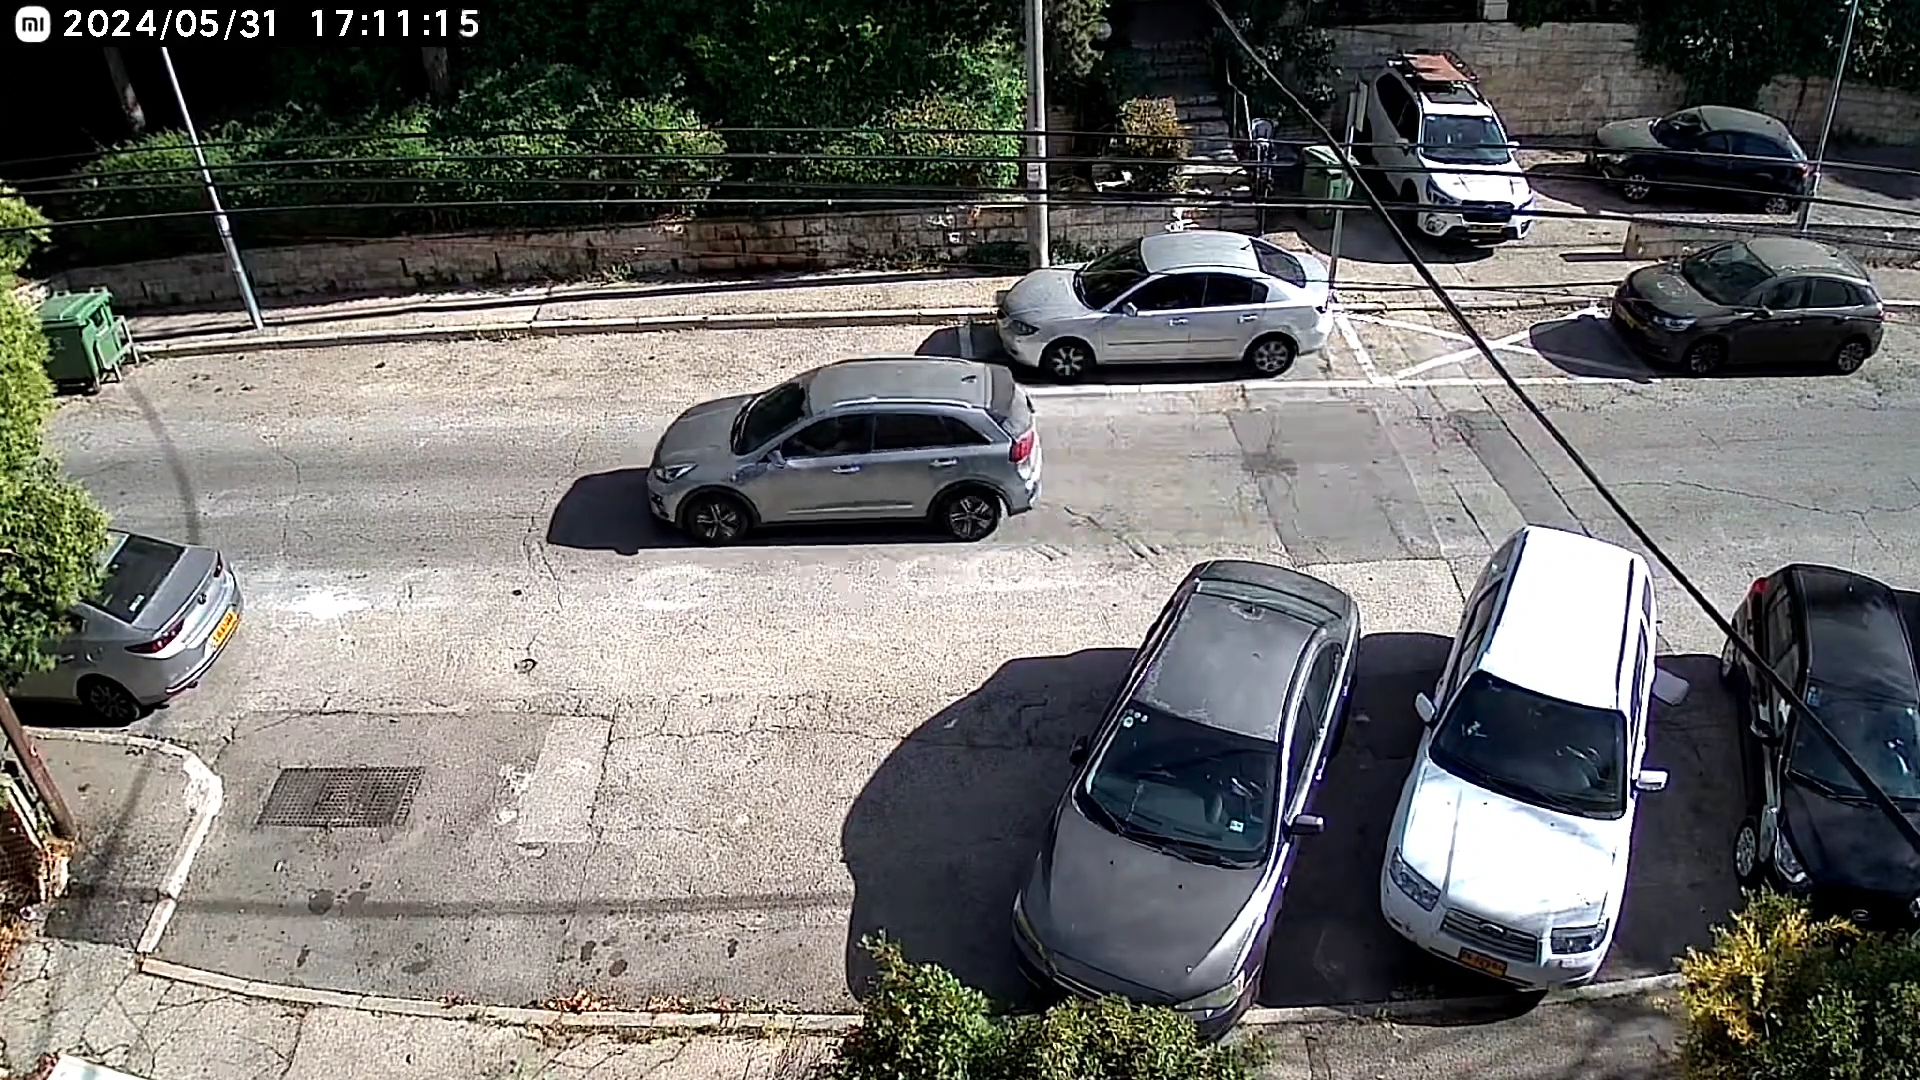moving car: (647, 360, 1043, 542)
